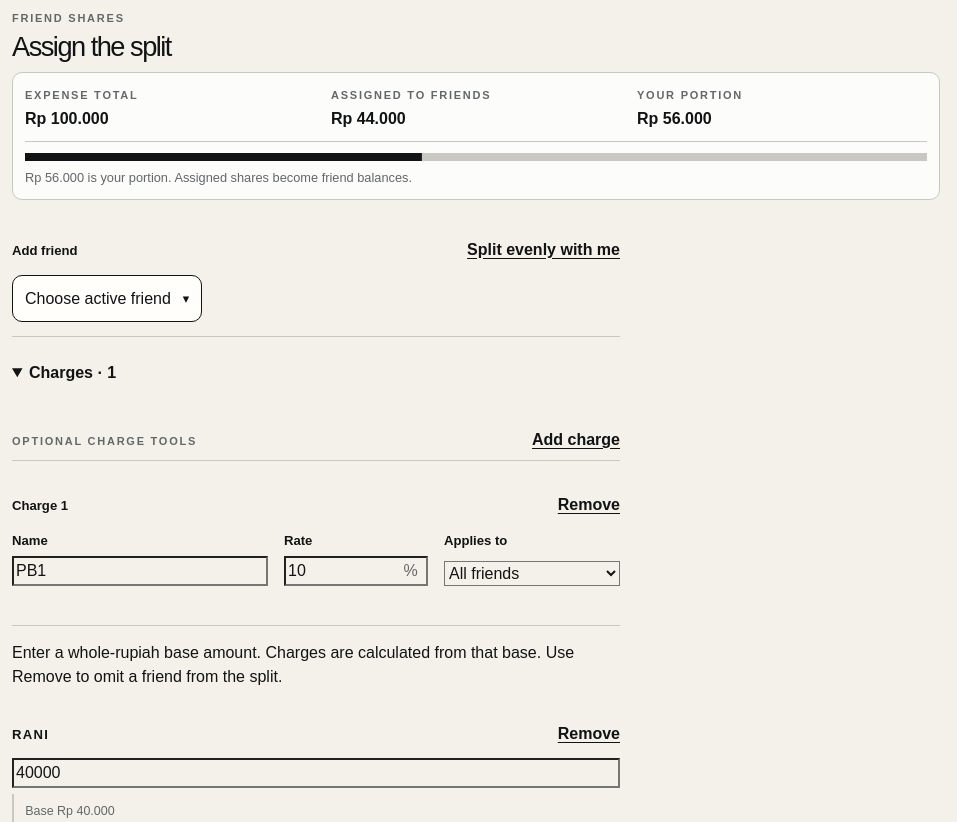
Test: expense share editor › keeps the sticky summary on the live base and charge totals
Expected: the element with class "expense-share-editor__summary" is shown, x1=12 y1=72 x2=940 y2=200
Expected: the text "Rp 44.000" is shown, x1=331 y1=110 x2=406 y2=127
Replace the text in the field labelled "Rani" with "50000": (316, 773) x1=12 y1=758 x2=620 y2=788
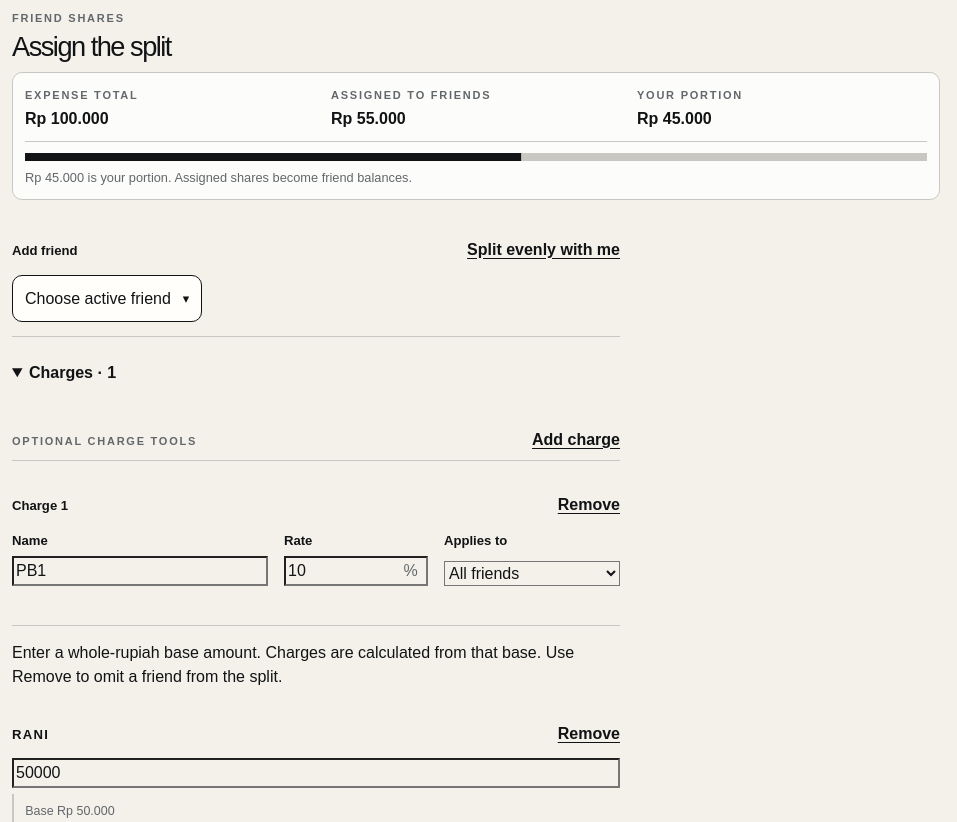
Replace the text in the field labelled "Rate" with "20": (356, 571) x1=284 y1=556 x2=428 y2=586
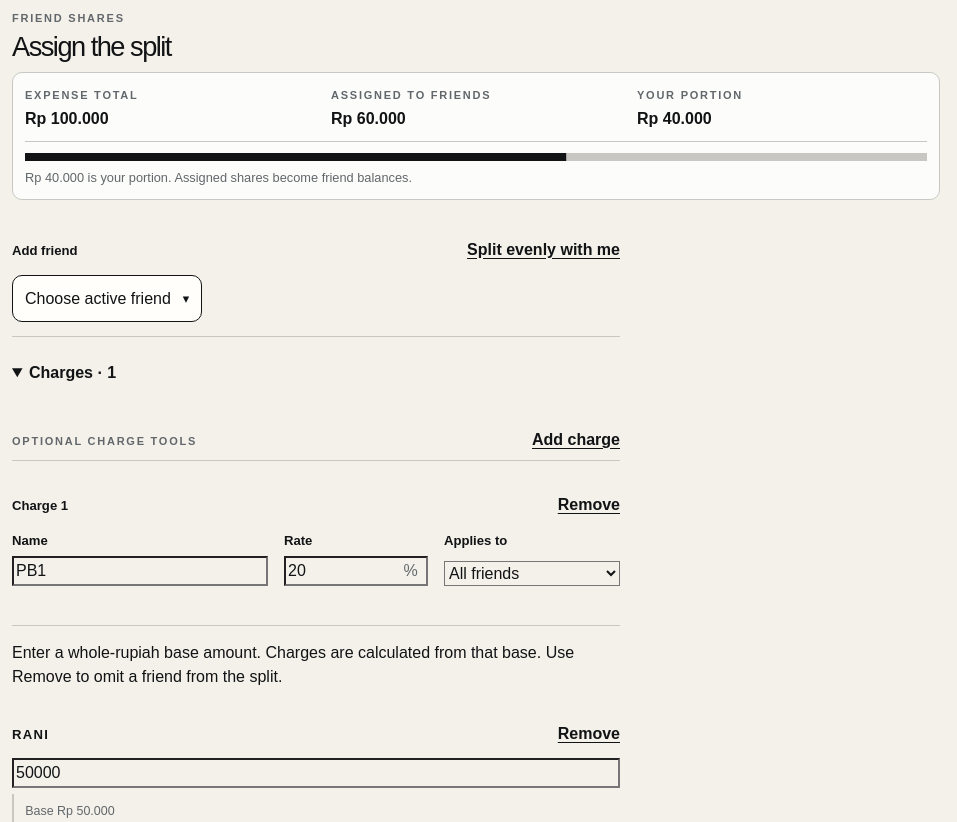
Expected: the text "Rp 60.000" is shown, x1=331 y1=110 x2=406 y2=127
Expected: the text "Rp 40.000" is shown, x1=637 y1=110 x2=712 y2=127
